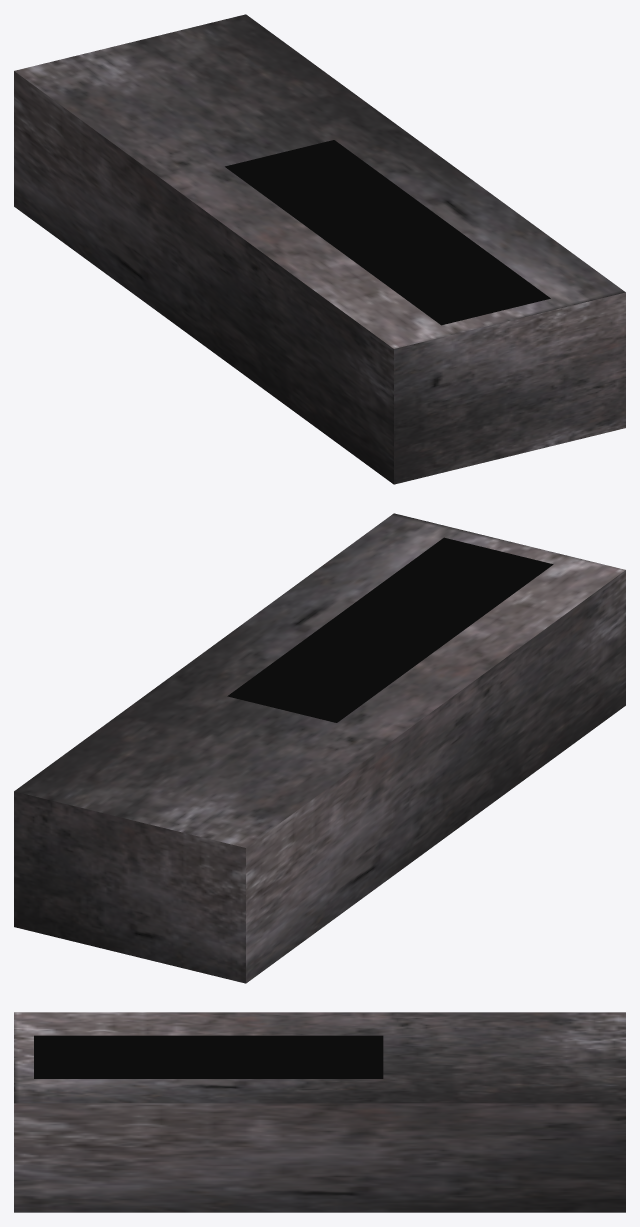
Rendered from CASH_REGISTER_BASE.fbx.
3 renders of one model, top to bottom at view 1: azimuth 30°, elevation 25°; view 2: azimuth 150°, elevation 25°; view 3: azimuth 270°, elevation 25°, orthographic. The views are drawn at different scales.
Parts seen in each view (by area): view 1: register_box; view 2: register_box; view 3: register_box.
Part boxes in pixels (<box>): register_box: <box>14,14,625,484</box>; register_box: <box>14,513,625,983</box>; register_box: <box>14,1012,625,1212</box>.
Bounding box in the file's own units: 35.81 × 20 × 102.
